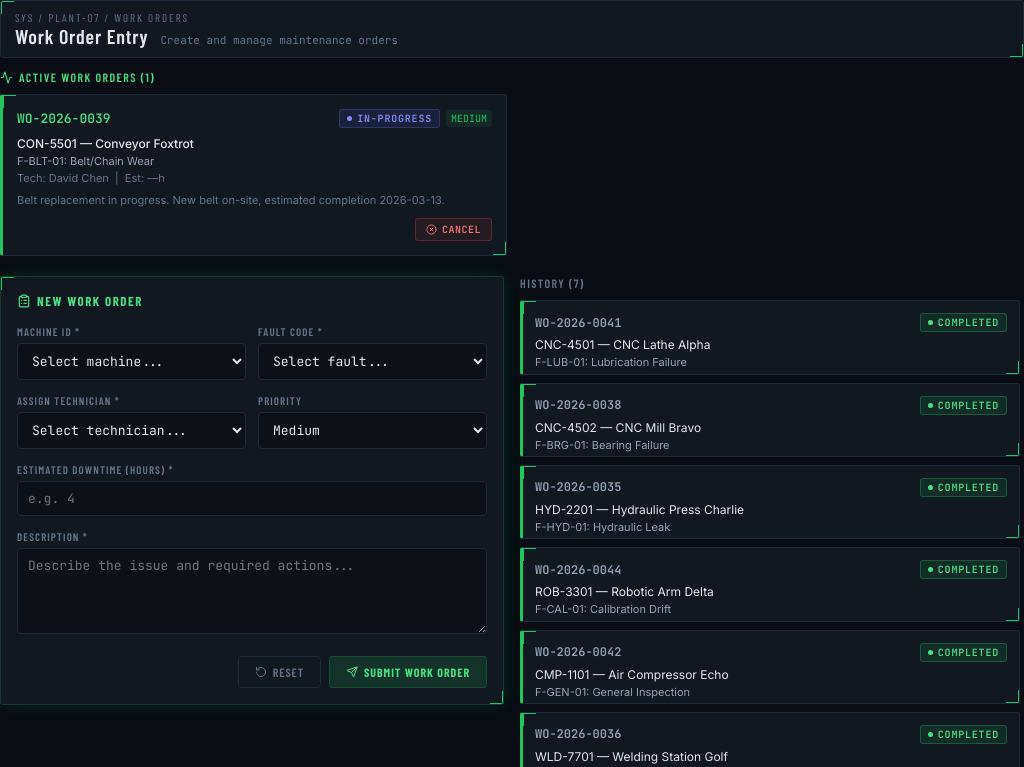
Test: WorkOrders › shows validation errors when submitting empty form
The image size is (1024, 767).
Click the button "Submit Work Order". click: click(408, 672)
box: [329,656,487,688]
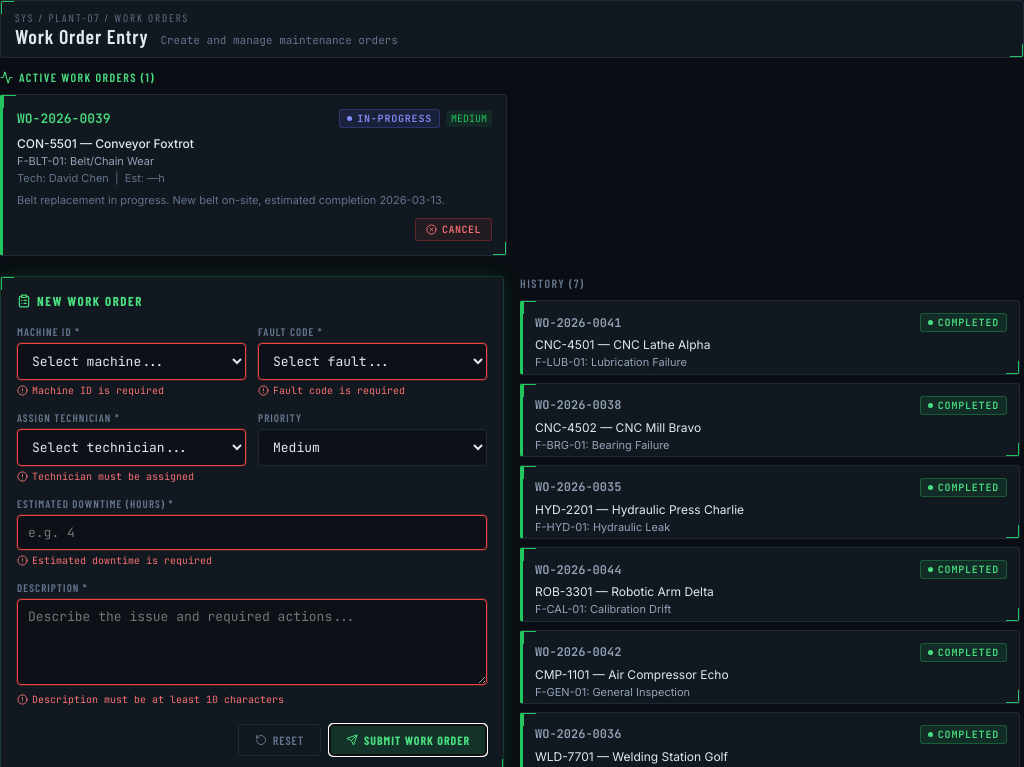
expect the text "Machine ID is required" is shown: met, box [17,384,164,397]
expect the text "Fault code is required" is shown: met, box [258,384,405,397]
expect the text "Technician must be assigned" is shown: met, box [17,470,194,483]
